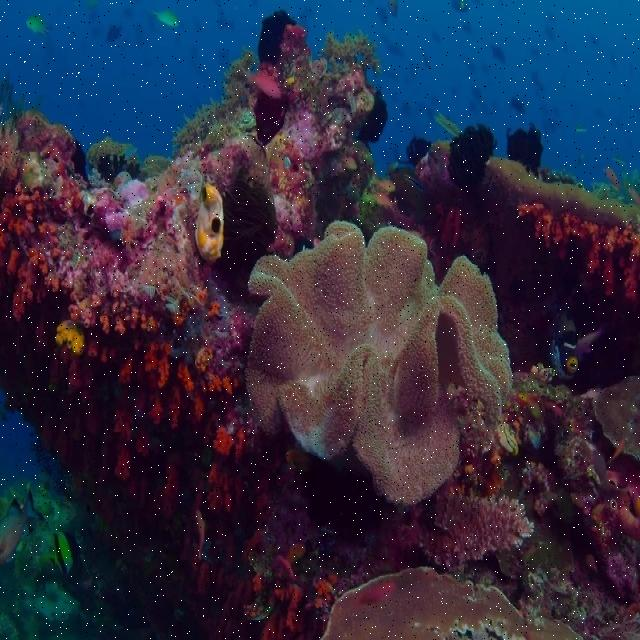fish: (0, 489, 46, 560), (38, 531, 84, 577), (392, 164, 438, 208)
reefs: (0, 10, 639, 639), (247, 217, 514, 502), (319, 563, 582, 639), (195, 181, 225, 261), (552, 306, 578, 377)
